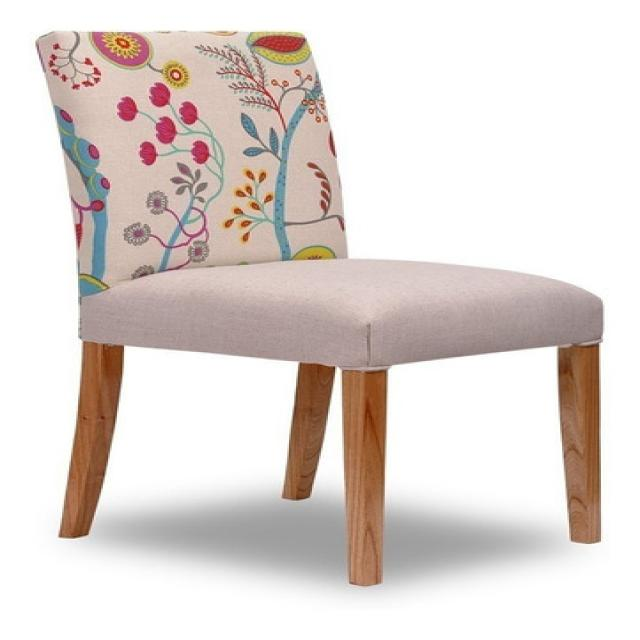bottle: (38, 31, 607, 588)
